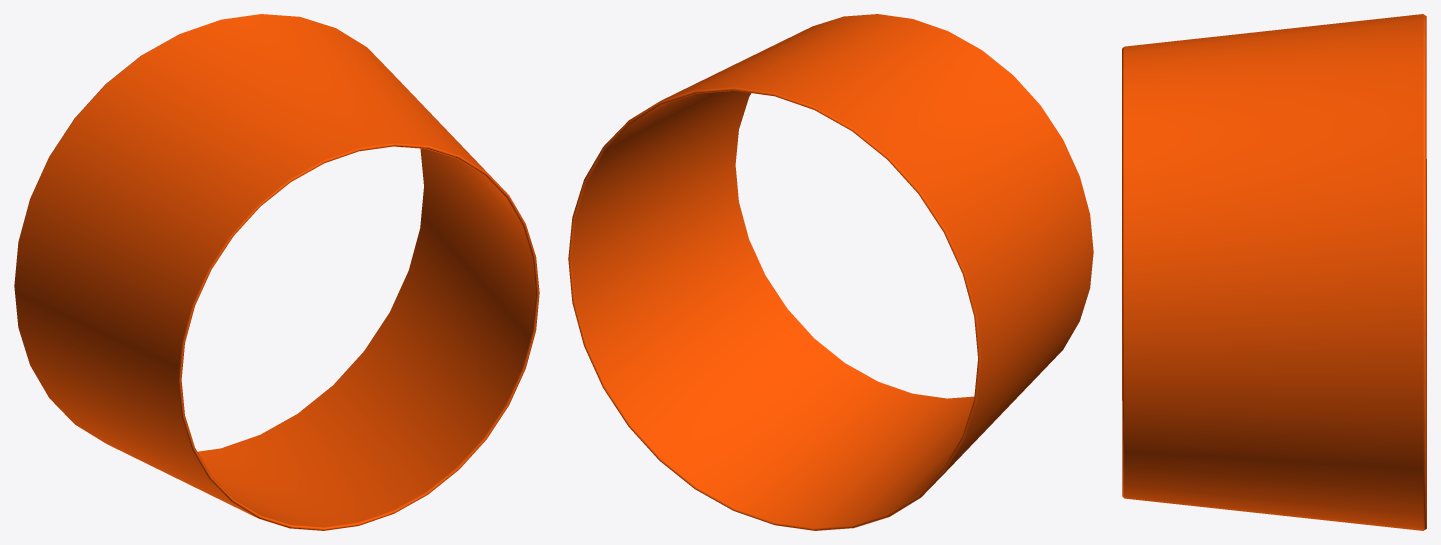
Rendered from Fp224Cylinder_164Fp224_Cylinder_164_0_GeomSubset_0.obj.
The picture shows the model from 3 angles, left to right: view 1: azimuth 30°, elevation 25°; view 2: azimuth 150°, elevation 25°; view 3: azimuth 270°, elevation 25°; orthographic projection. The views are drawn at different scales.
Visible parts, largest first — view 1: Fp224Cylinder_164Fp224_Cylinder_164_0_GeomSubset_0; view 2: Fp224Cylinder_164Fp224_Cylinder_164_0_GeomSubset_0; view 3: Fp224Cylinder_164Fp224_Cylinder_164_0_GeomSubset_0.
Boxes of the visible parts, x1,y1,x2,y2 form: Fp224Cylinder_164Fp224_Cylinder_164_0_GeomSubset_0: (14, 14, 539, 530); Fp224Cylinder_164Fp224_Cylinder_164_0_GeomSubset_0: (568, 14, 1093, 530); Fp224Cylinder_164Fp224_Cylinder_164_0_GeomSubset_0: (1122, 14, 1426, 530).
Size of the model in its own units: 0.2749 by 0.2749 by 0.1619.
